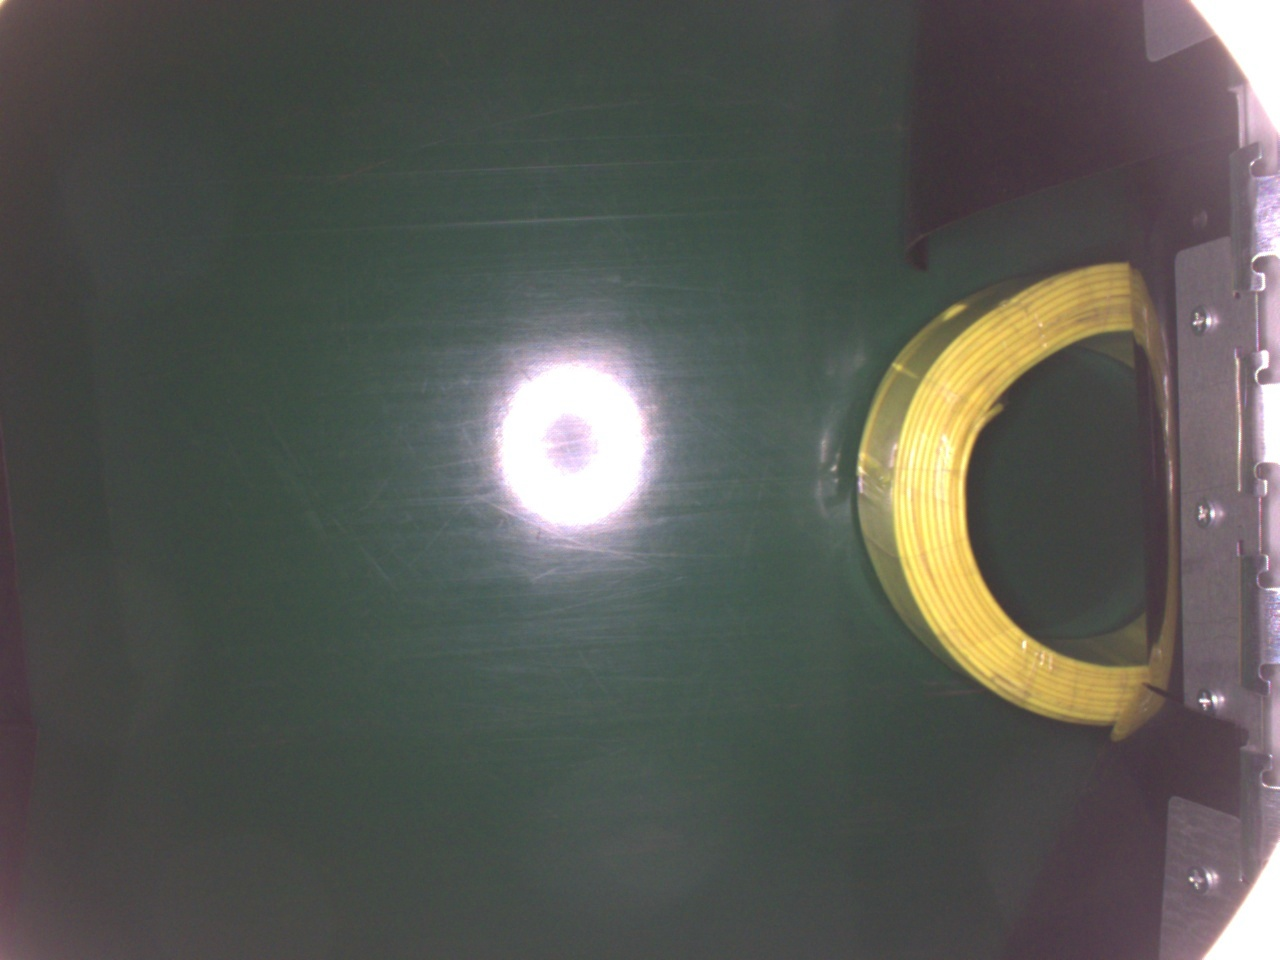yellow: (859, 257, 1167, 723)
